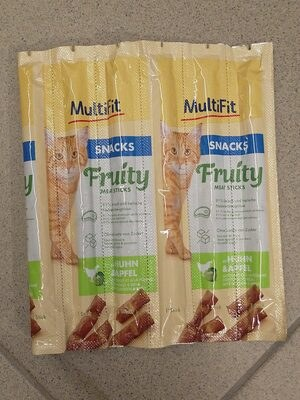katzenstangerl: (15, 20, 285, 380)
